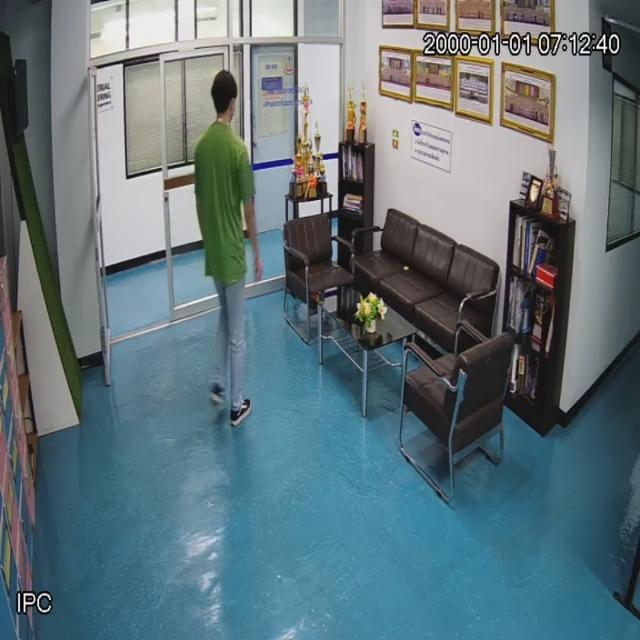normal: (198, 60, 262, 441)
